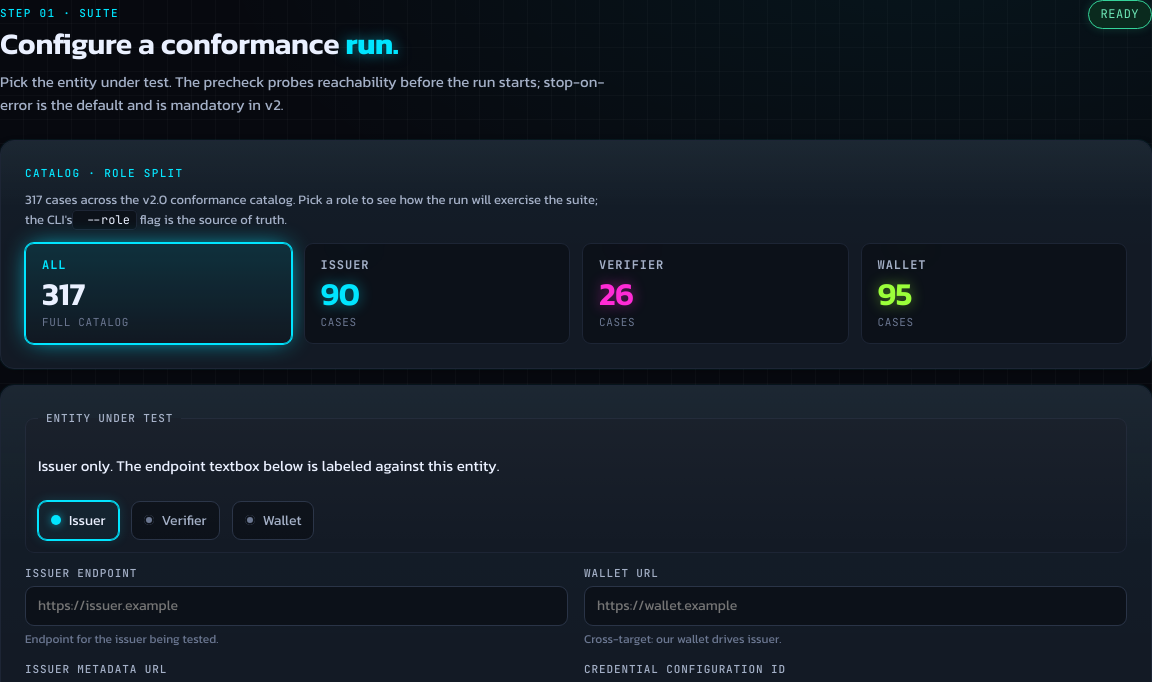
Test: SuiteRoute — entity-driven endpoint form (MAS-302) › shows the entity mode caption ("Issuer with wallet" / "Verifier with wallet" / "Wallet alone")
The image size is (1152, 682).
Expected: the text with test id "entity-mode-label" shows "Issuer", x1=38 y1=454 x2=110 y2=477
Type "https://w.example" into the field with test id "input-wallet" at point(856, 606), box x1=584 y1=586 x2=1127 y2=626
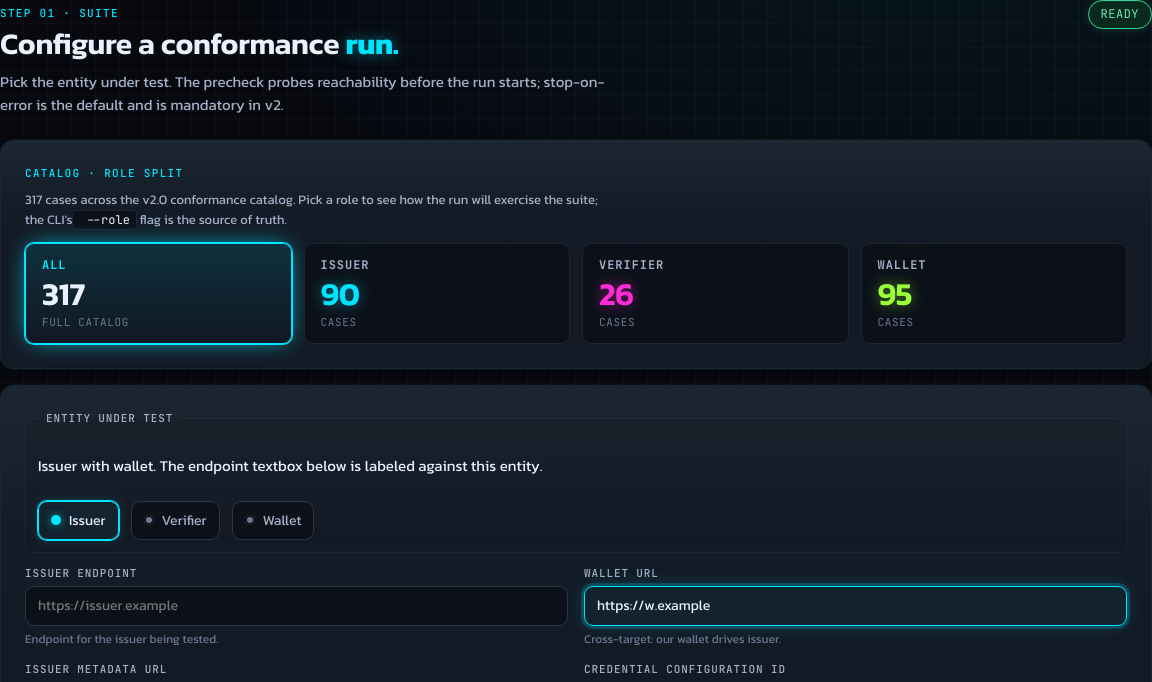
Result: the text with test id "entity-mode-label" shows "with wallet" at x1=38 y1=454 x2=153 y2=477
Click the radio button with test id "entity-radio-input-wallet" at point(273, 520), box x1=232 y1=500 x2=314 y2=540
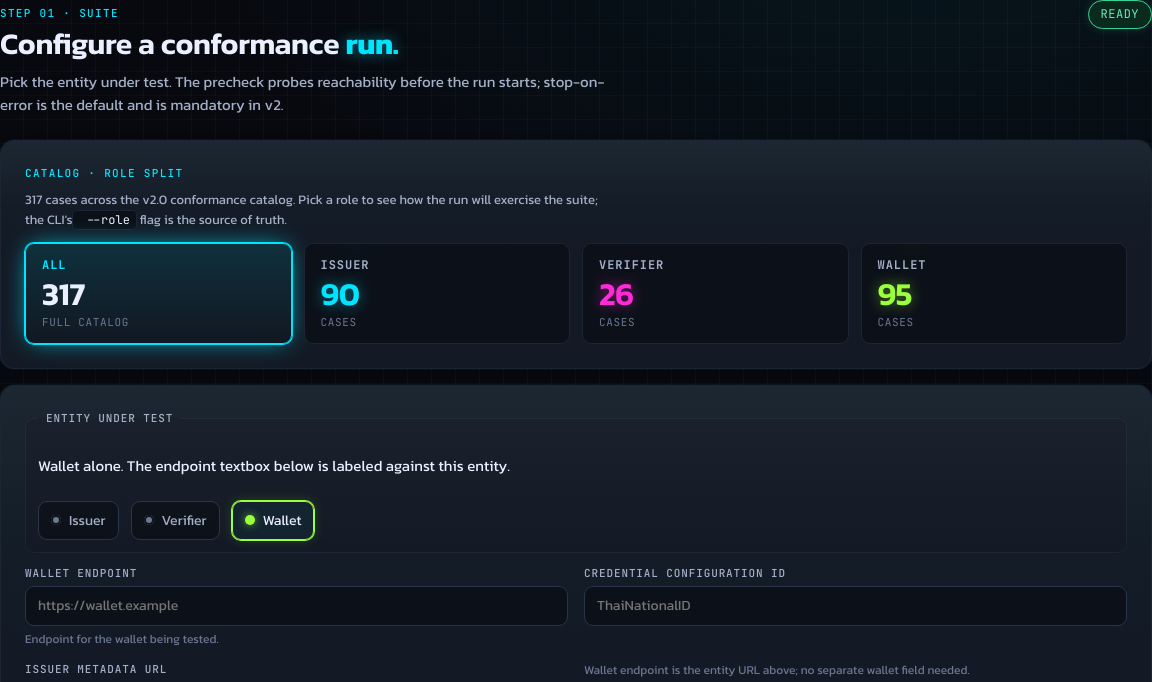
Result: the text with test id "entity-mode-label" shows "Wallet alone" at x1=38 y1=454 x2=121 y2=477
